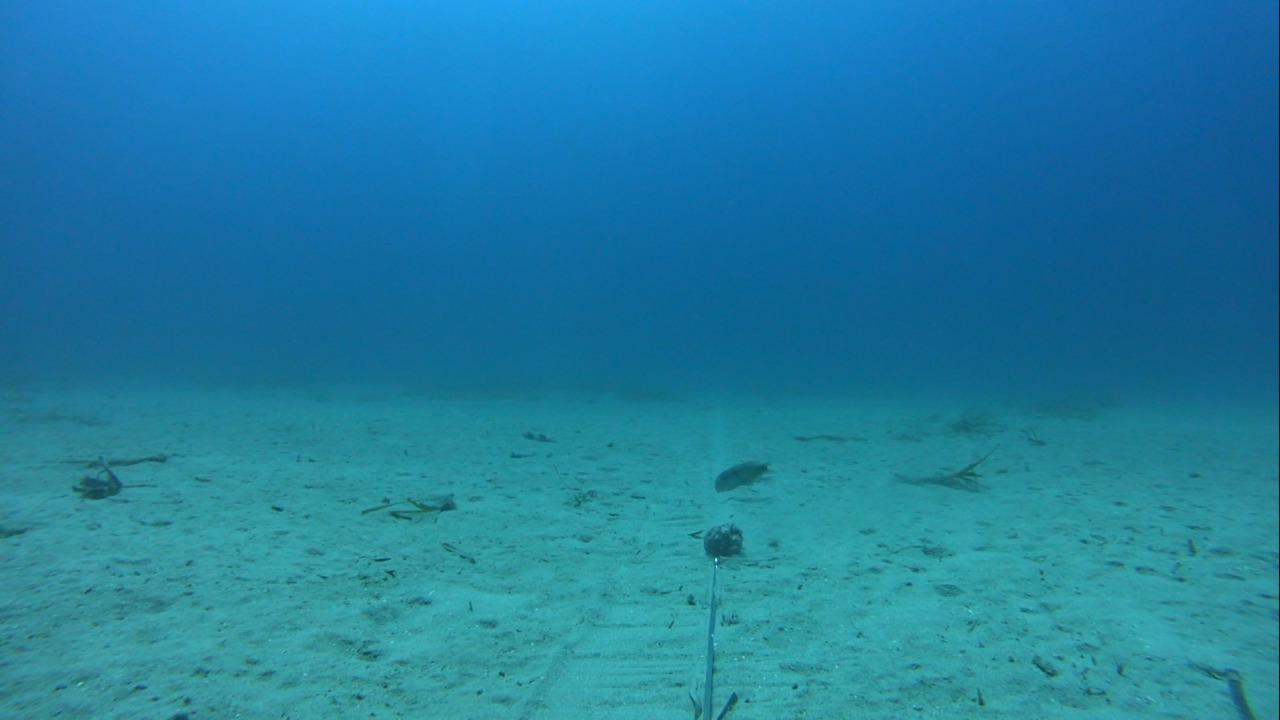raor: (710, 453, 772, 492)
